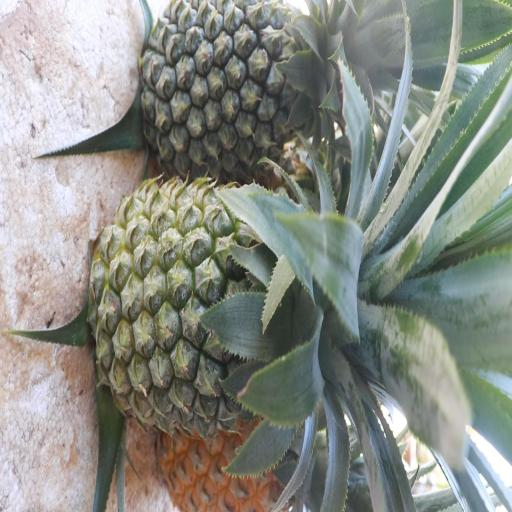------------------------------: (90, 188, 331, 425)
Pineapple - v8 v1: (160, 405, 310, 512)
